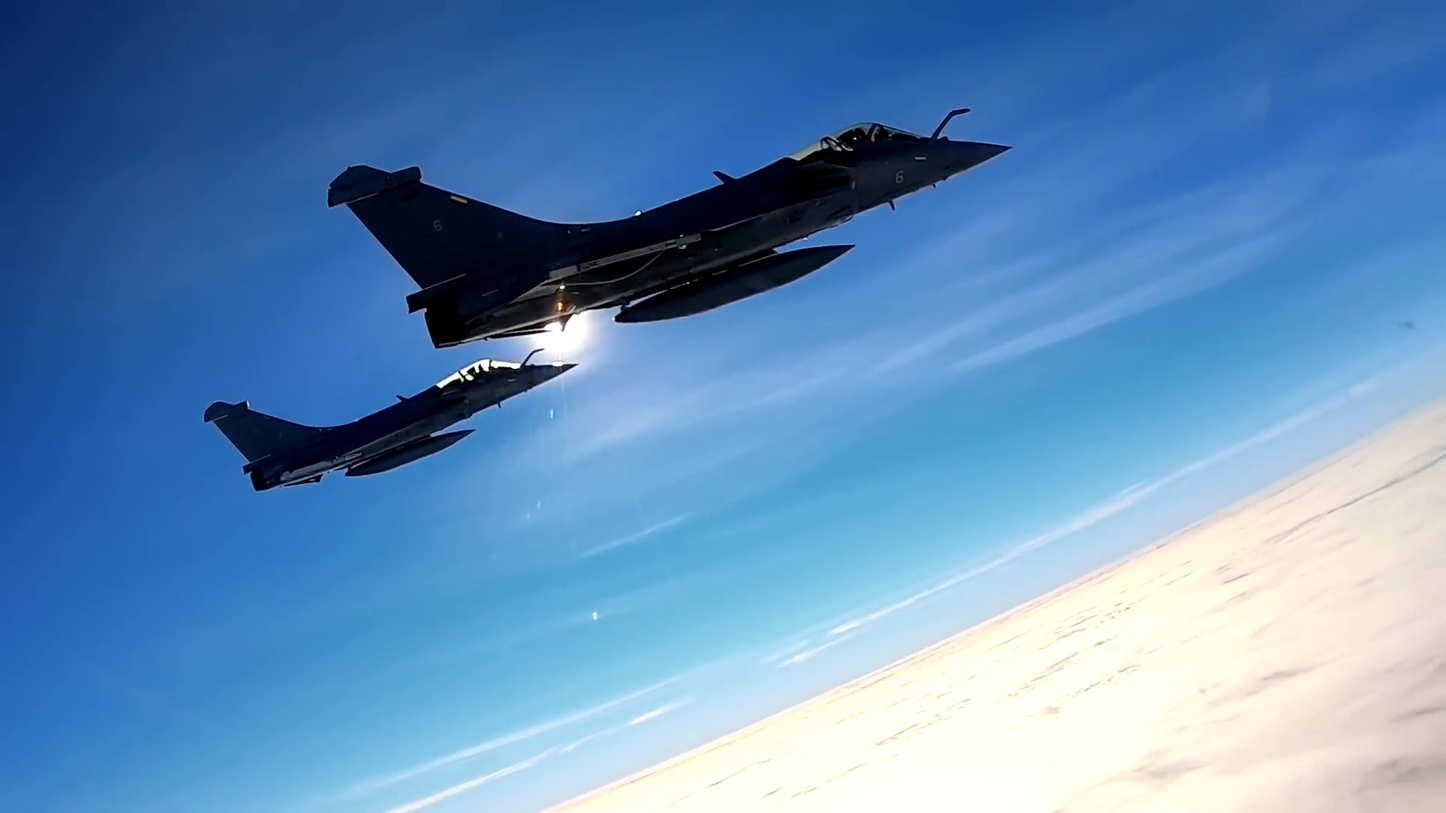Rafale: (328, 109, 1013, 349), (202, 348, 579, 491)
